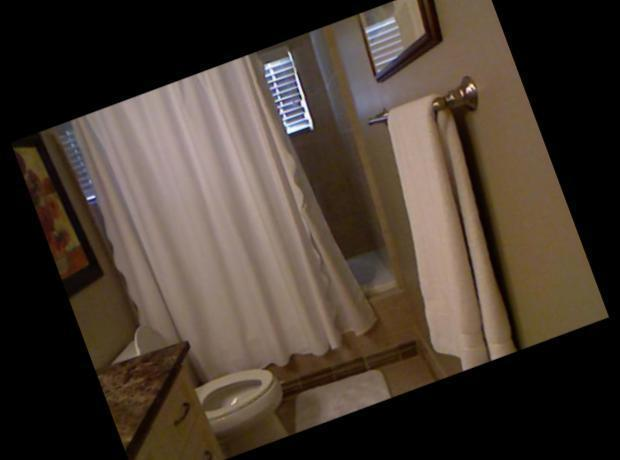Sanitario: (103, 295, 297, 460)
